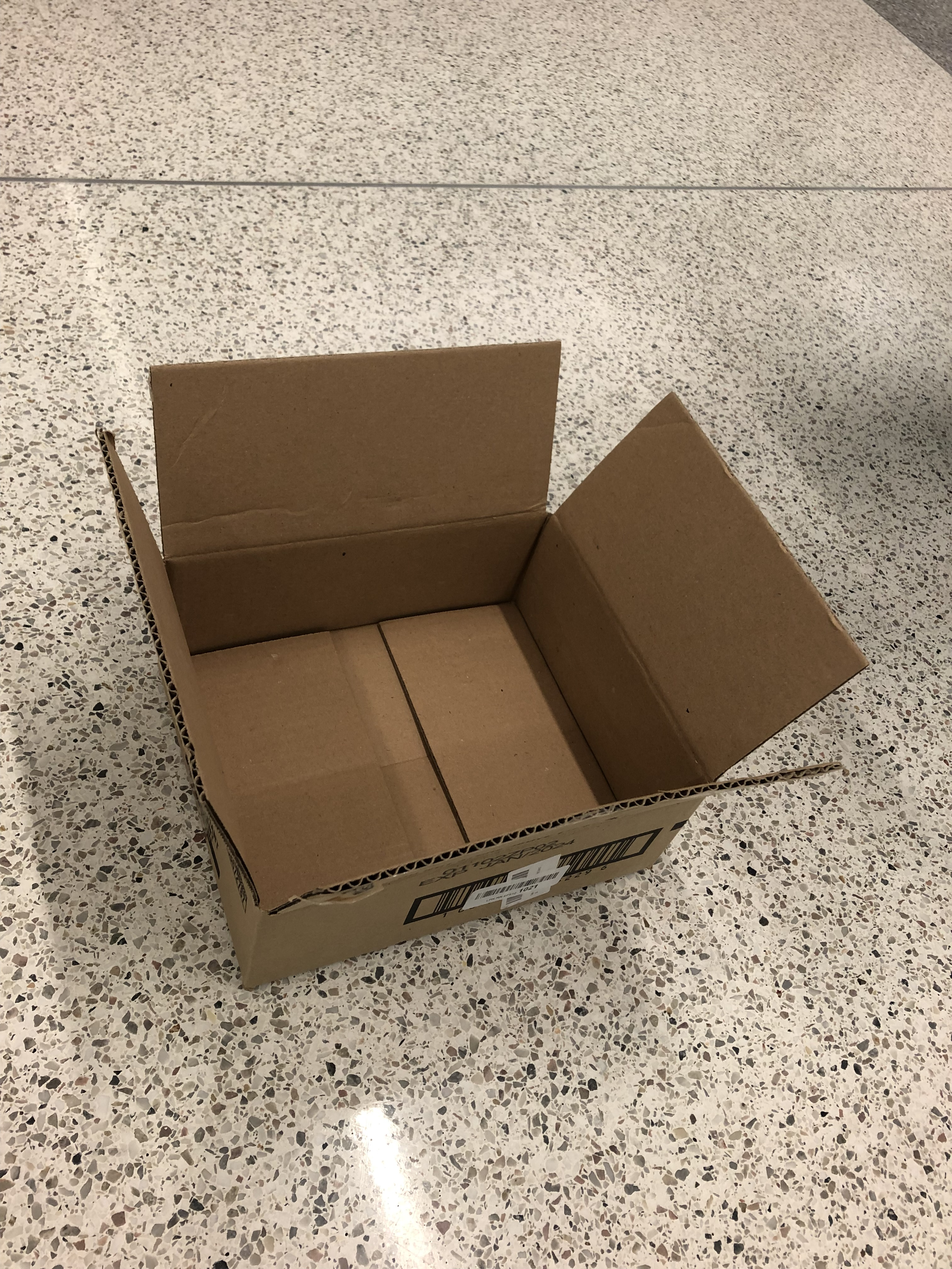box: (93, 336, 871, 990)
crushed: (93, 334, 872, 912)
